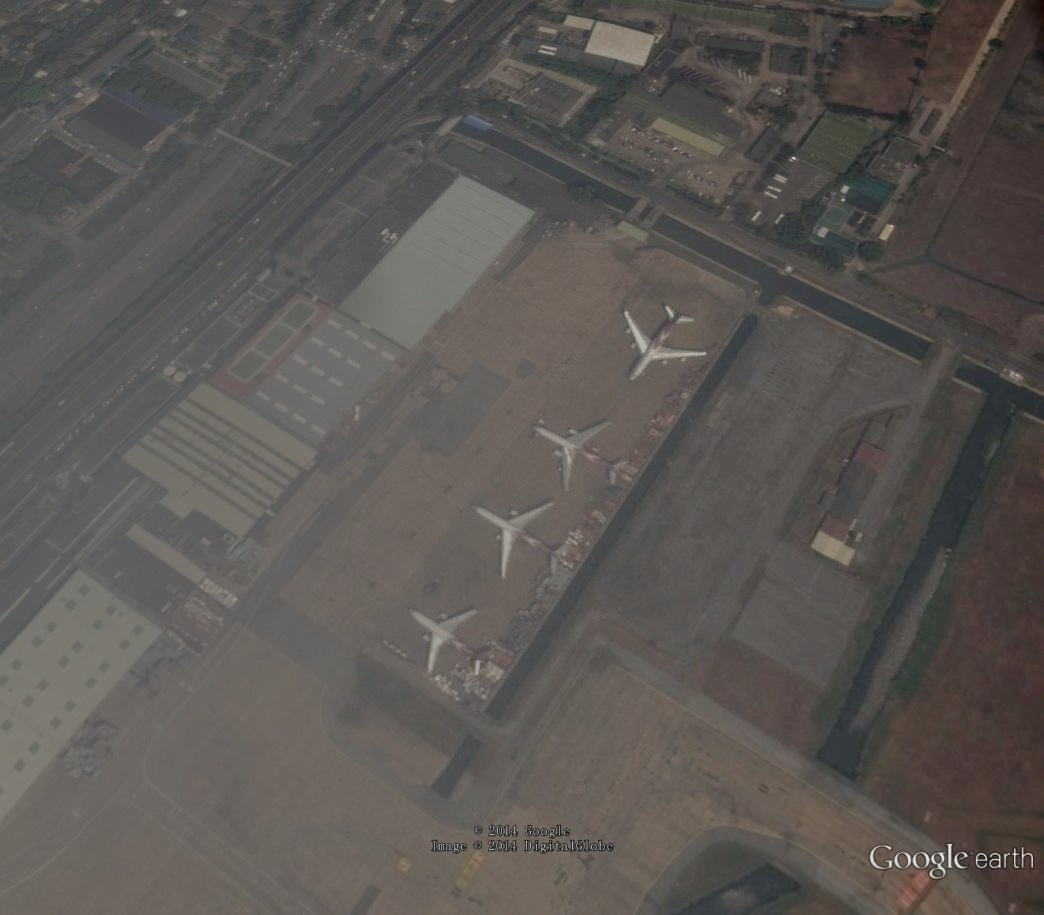aircraft: (466, 495, 580, 585), (529, 417, 639, 498), (619, 300, 715, 387), (403, 601, 501, 684)
